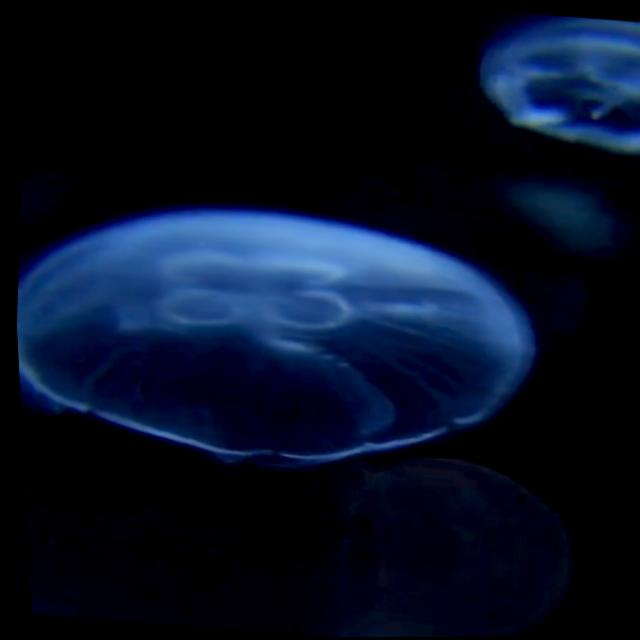Moon-jellyfish: (12, 205, 536, 471), (476, 14, 640, 158), (15, 103, 104, 250)
